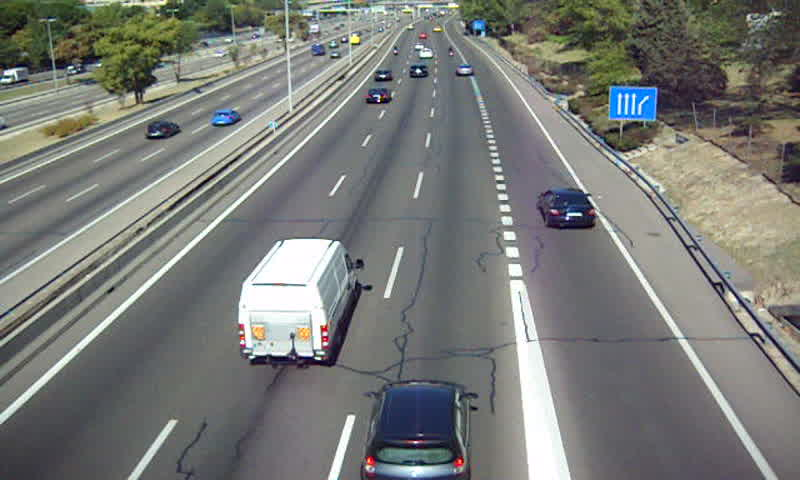car: (362, 381, 471, 480), (538, 189, 596, 228), (365, 87, 390, 104), (372, 67, 395, 83), (407, 64, 427, 80), (454, 63, 474, 77), (417, 48, 436, 59)
van: (238, 239, 362, 365)
